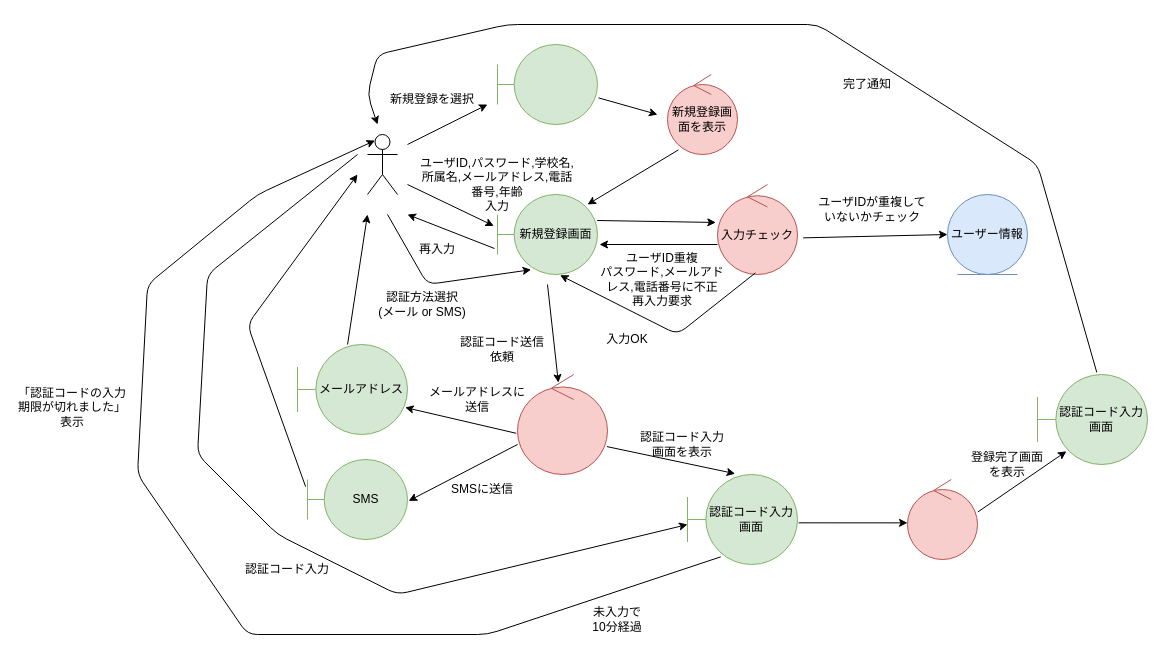
Some shapes in this 1165 by 660 pixel diagram are drawn without their labels. Each missing label, with the centre of its shape:
ユーザー: the point at 382,164
登録完了: the point at 942,519
訪問者システムメニュー: the point at 547,84
認証コード送信: the point at 562,424
